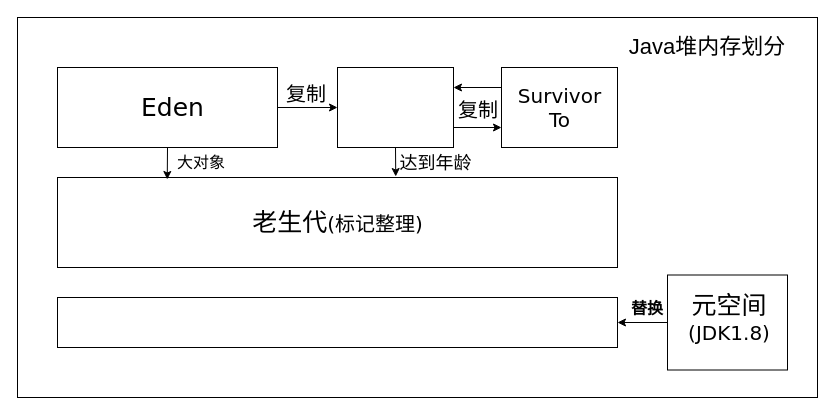
The diagram is 835 pixels wide and 415 high, and some of its shapes have lost their labels. Here are the shapes that lost their labels. From the top down, the box of each, then its label:
(336, 66, 454, 148): Survivor From
(56, 296, 618, 348): 永生代 (JDK1.8之前)
